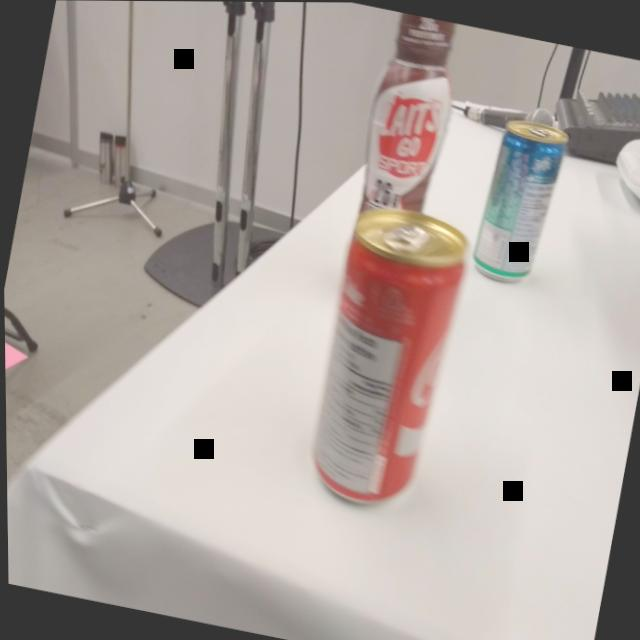chocolate_drink: (347, 8, 469, 215)
coke: (294, 195, 482, 524)
sprite: (463, 105, 575, 299)
